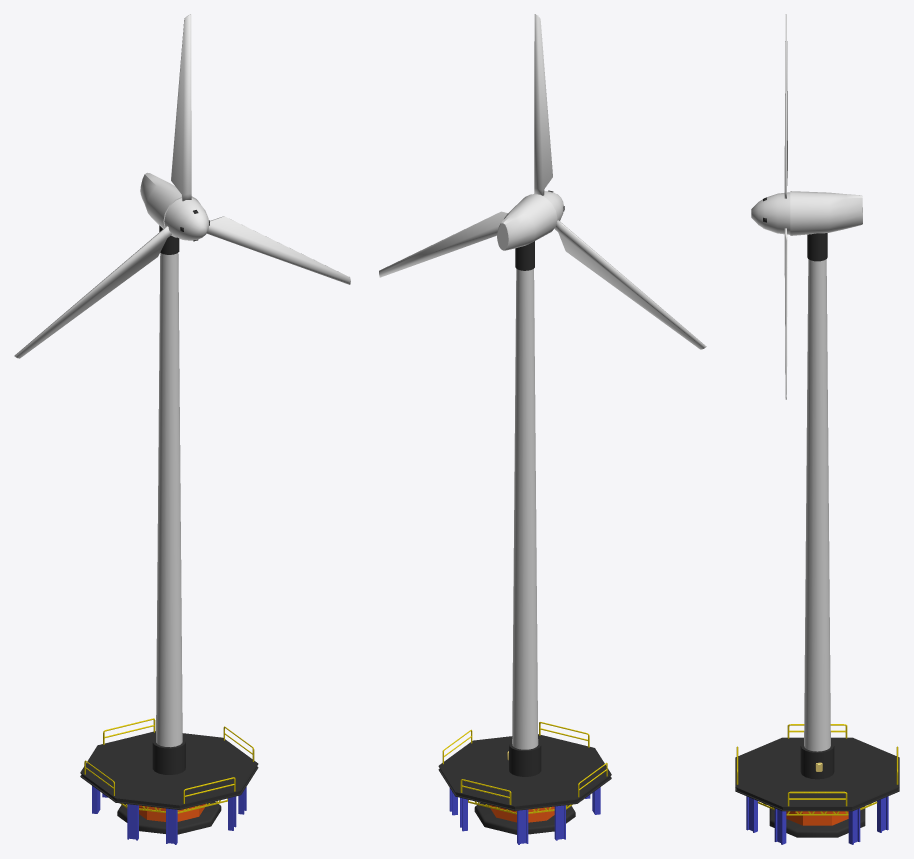
Rendered from bigTurbine.fbx.
3 renders of one model, left to right at view 1: azimuth 30°, elevation 25°; view 2: azimuth 150°, elevation 25°; view 3: azimuth 270°, elevation 25°, orthographic. The views are drawn at different scales.
Visible parts, largest first — view 1: BiG Turbine, Cube.114, Cylinder.060; view 2: BiG Turbine, Cube.114, Cylinder.060; view 3: BiG Turbine, Cube.114, Cylinder.060.
Boxes of the visible parts, <box> form: BiG Turbine: <box>140,172,200,774</box>; Cube.114: <box>80,718,258,844</box>; Cylinder.060: <box>14,14,350,358</box>; BiG Turbine: <box>497,194,557,776</box>; Cube.114: <box>438,722,611,844</box>; Cylinder.060: <box>379,14,706,349</box>; BiG Turbine: <box>790,191,862,779</box>; Cube.114: <box>735,724,899,844</box>; Cylinder.060: <box>751,14,790,399</box>.
Size of the model in its own units: 2546 by 5852 by 1080.
